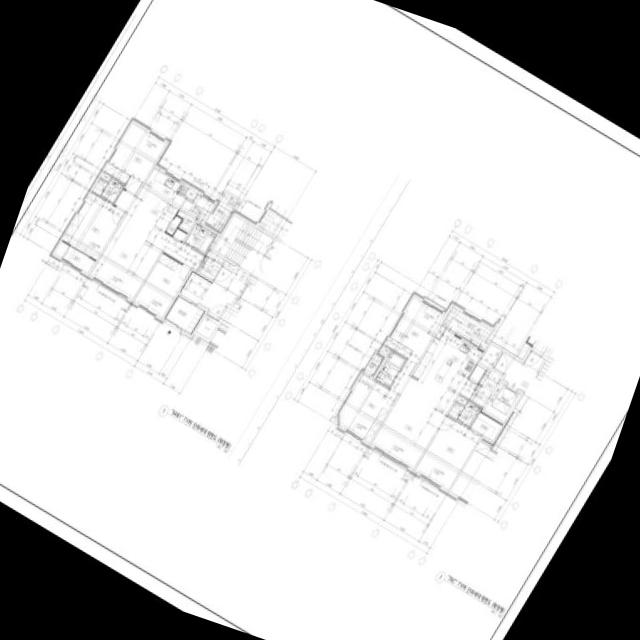background: (0, 0, 640, 640)
space_balconi: (441, 306, 491, 349), (175, 193, 214, 232), (61, 245, 95, 273), (364, 353, 381, 373)
space_bedroom: (414, 415, 480, 489), (385, 297, 443, 374), (103, 123, 165, 194), (62, 191, 124, 259), (338, 374, 397, 442), (133, 252, 189, 317)
space_dressroom: (470, 412, 501, 440)
space_elevator: (484, 382, 520, 421), (232, 278, 256, 310)
space_elevator_hall: (179, 260, 259, 319), (493, 350, 543, 392)
space_front: (163, 294, 205, 334), (469, 369, 501, 407), (196, 250, 223, 279)
space_kitchen: (411, 330, 482, 394), (128, 167, 187, 230)
space_living_room: (89, 188, 203, 299), (370, 370, 476, 468), (468, 364, 484, 383), (171, 227, 186, 242)
space_other: (195, 316, 217, 339), (479, 344, 500, 368), (165, 215, 181, 234), (54, 240, 69, 257), (266, 239, 280, 256), (184, 187, 196, 199), (434, 325, 444, 337), (456, 395, 466, 404), (100, 172, 110, 181), (381, 346, 390, 354)
space_staircase: (213, 215, 273, 277)
space_toilet: (374, 350, 405, 387), (184, 222, 216, 254), (91, 177, 123, 203), (456, 400, 479, 426), (448, 402, 463, 418)
